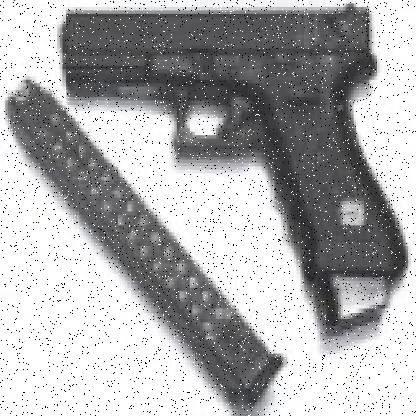pistol: (60, 3, 403, 329)
